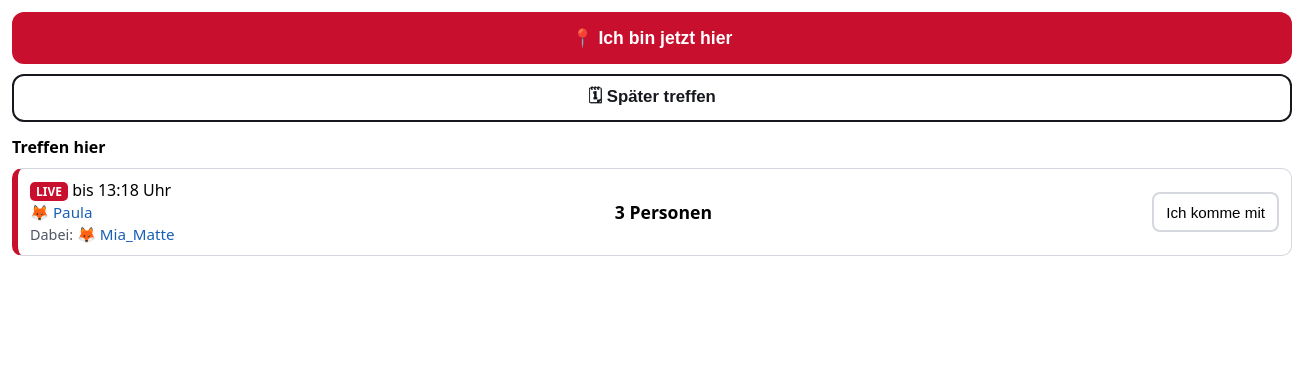
Test case: PlaceMeetups › asks a participant as a Contact after a tap on the Nickname (SCRUM-32)
Click the button "🦊 Mia_Matte" at [126, 234], box [77,224,175,244]
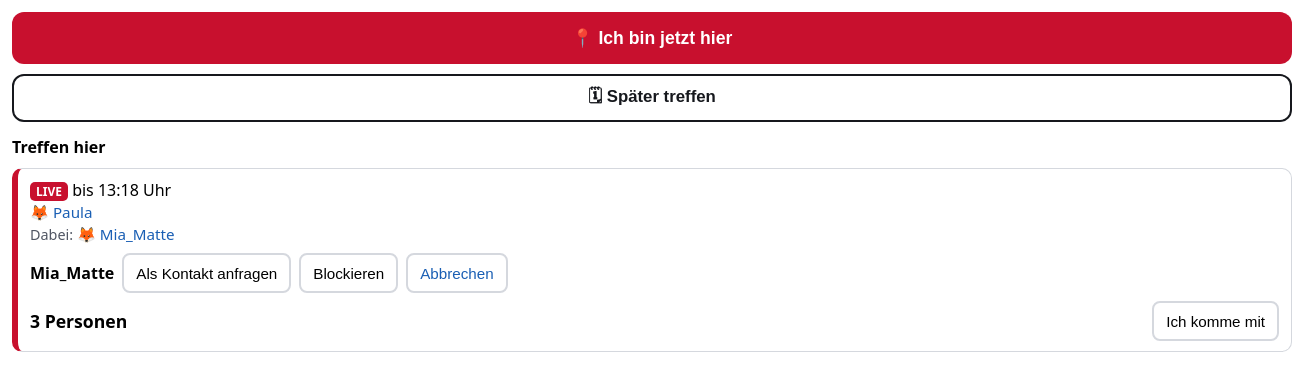
Click the button "Als Kontakt anfragen" at [207, 273], box [122,253,291,293]
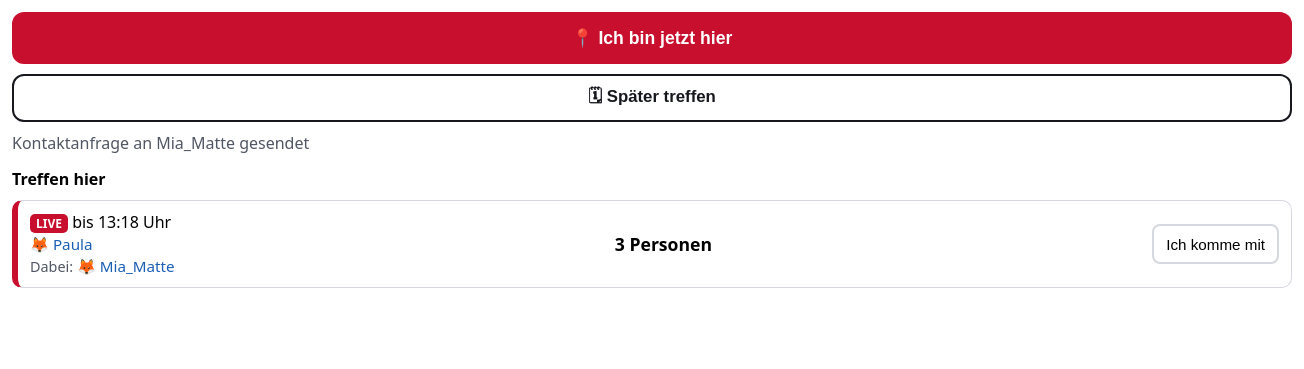
Expected: the text "Kontaktanfrage an Mia_Matte gesendet" is shown, [12,132,309,154]
